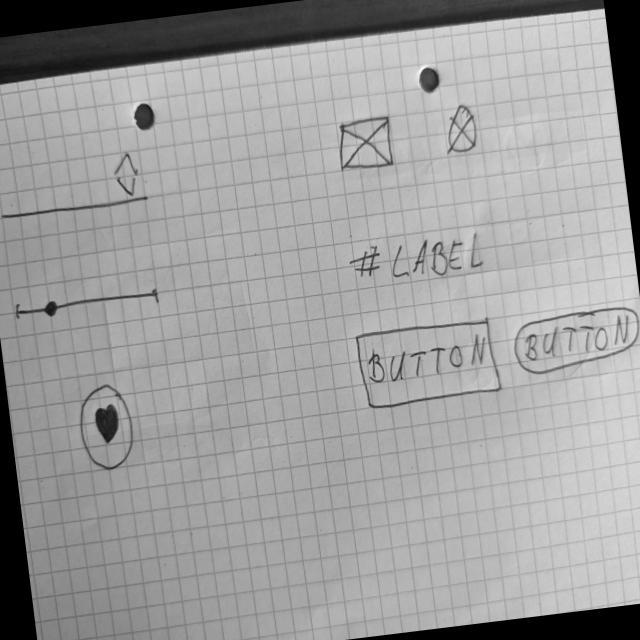button: (354, 315, 503, 413), (509, 301, 640, 379)
icon-button: (75, 380, 140, 475)
image: (335, 114, 397, 177), (440, 102, 483, 157)
label: (347, 229, 488, 291)
number-input: (1, 149, 151, 224)
slider: (12, 283, 164, 324)
